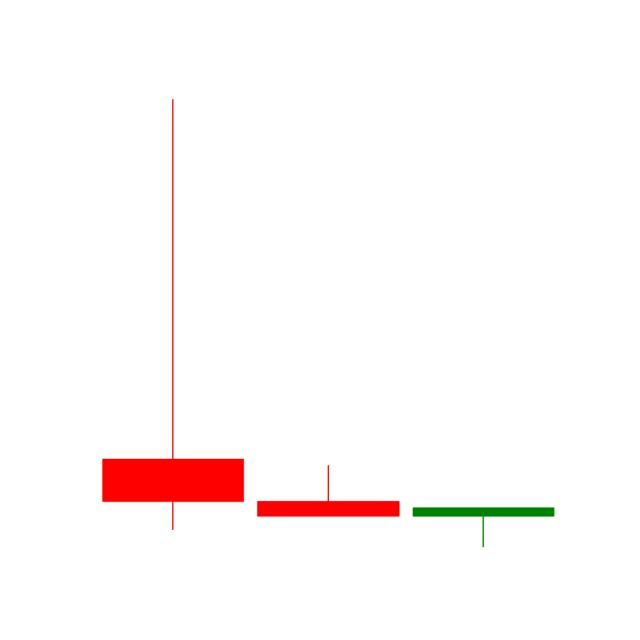Dragonfly Doji: (405, 506, 561, 548)
Gravenstone Doji: (257, 464, 400, 525)
Shooting Star: (101, 95, 247, 540)
